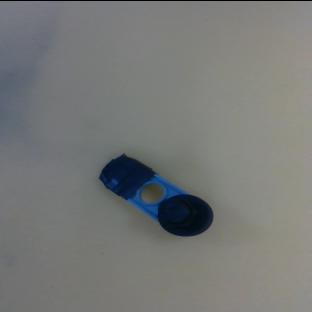part_1_bad: (93, 147, 220, 247)
